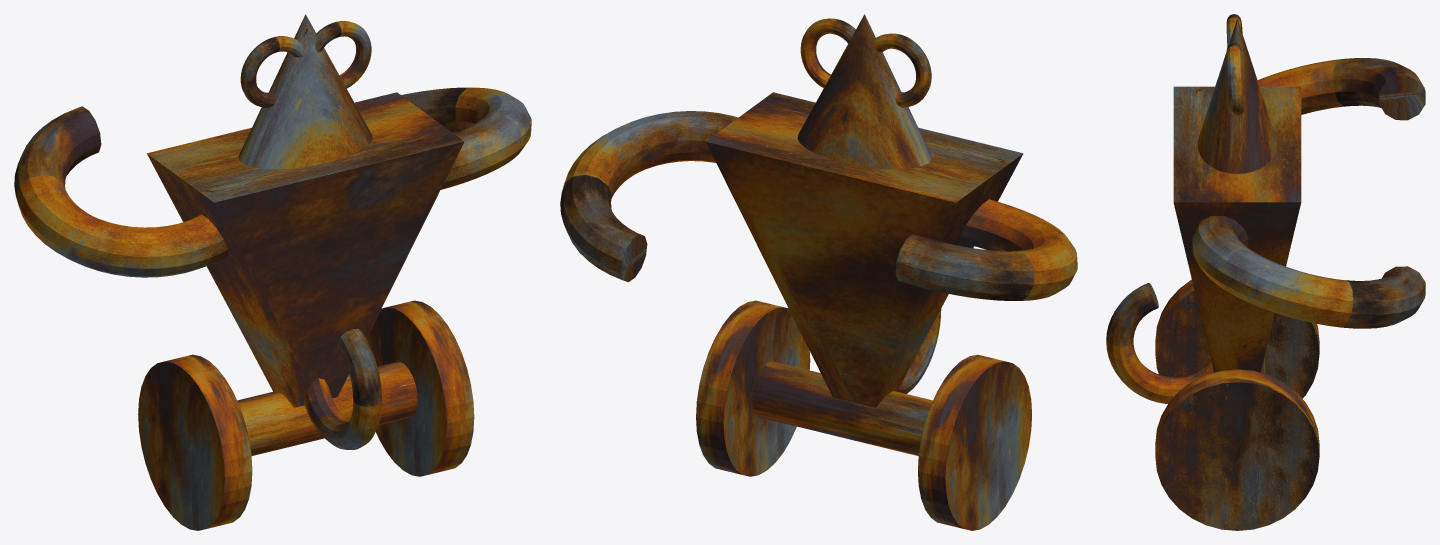
The model's file is Monkey.gltf.
3 renders of one model, left to right at view 1: azimuth 30°, elevation 25°; view 2: azimuth 150°, elevation 25°; view 3: azimuth 270°, elevation 25°, orthographic. The views are drawn at different scales.
Visible parts, largest first — view 1: Body, Leg, Head; view 2: Body, Leg, Head; view 3: Body, Leg, Head.
Boxes of the visible parts, x1,y1,x2,y2 form: Body: (14,87,531,449); Leg: (138,300,474,530); Head: (238,14,372,169); Body: (560,92,1077,407); Leg: (696,300,1031,530); Head: (797,14,931,169); Body: (1106,58,1425,403); Leg: (1155,279,1319,530); Head: (1197,14,1277,173).
Size of the model in its own units: 3.87 by 3.67 by 2.34.
Materials: 1 (1 with a texture image).
